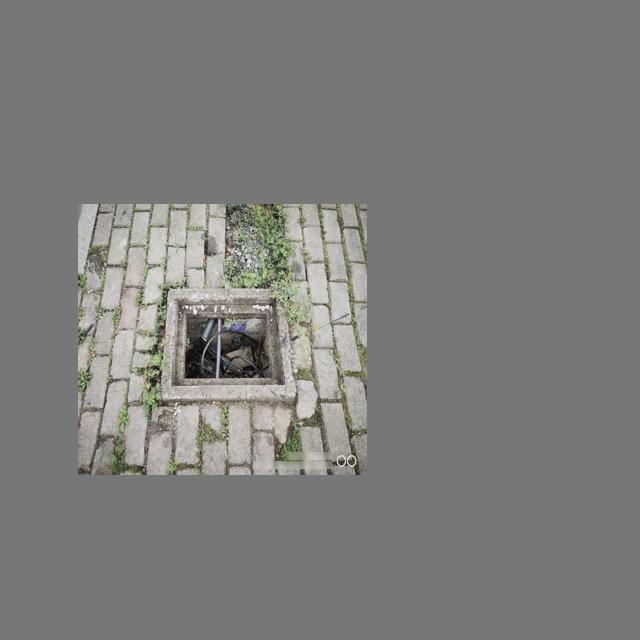lose: (161, 286, 296, 400)
